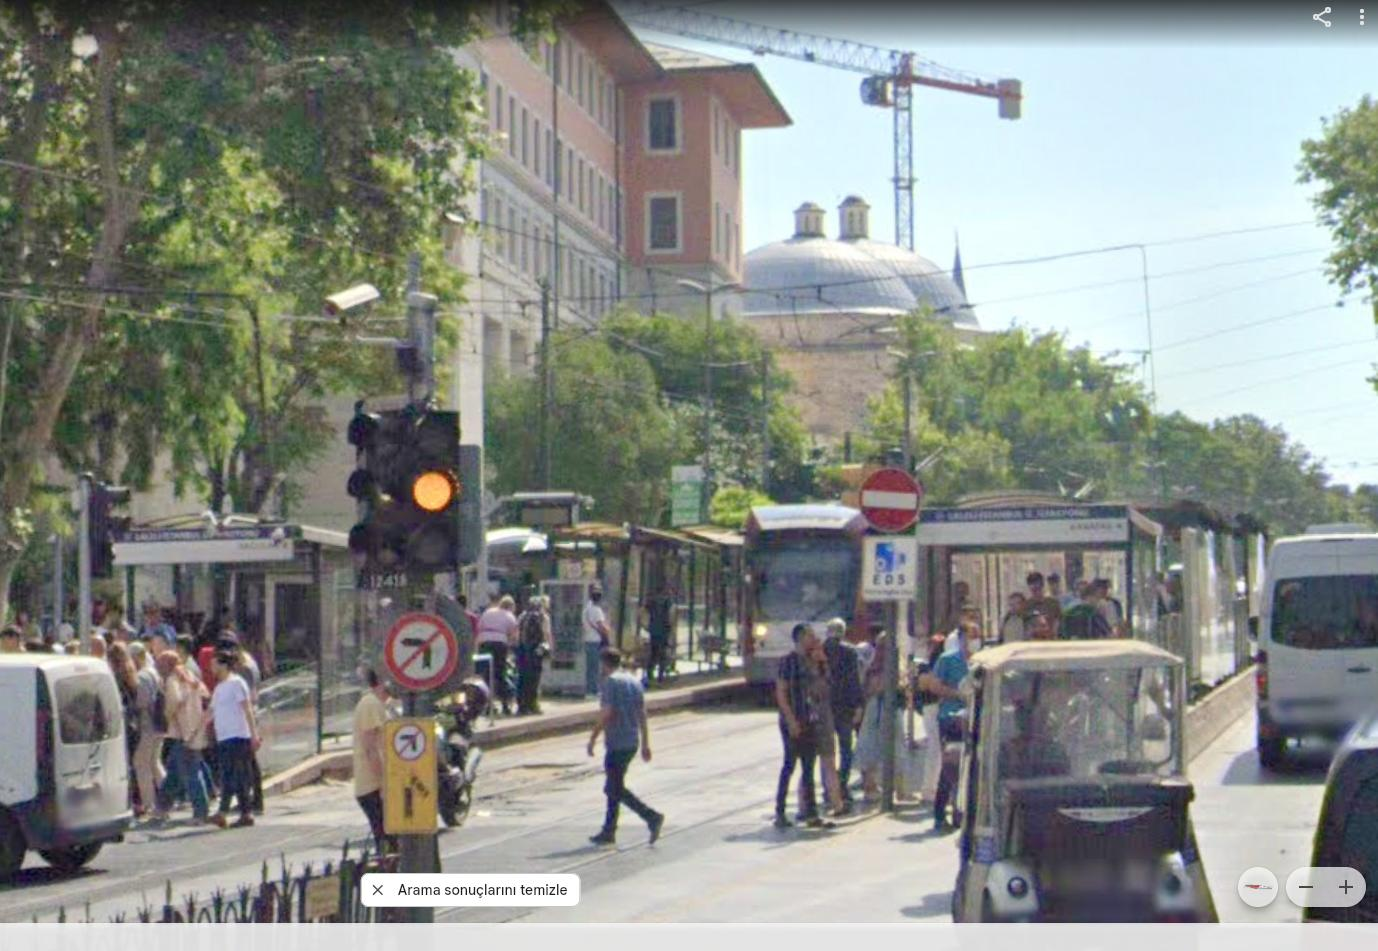leftturnsareforbidden: (382, 617, 458, 689), (391, 722, 431, 766)
yellowlight: (400, 410, 467, 559)
